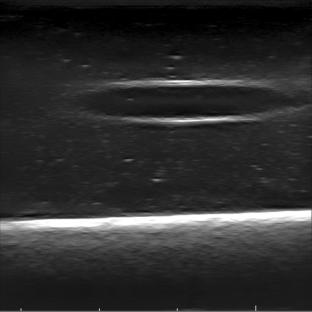vessel: (77, 78, 294, 125)
